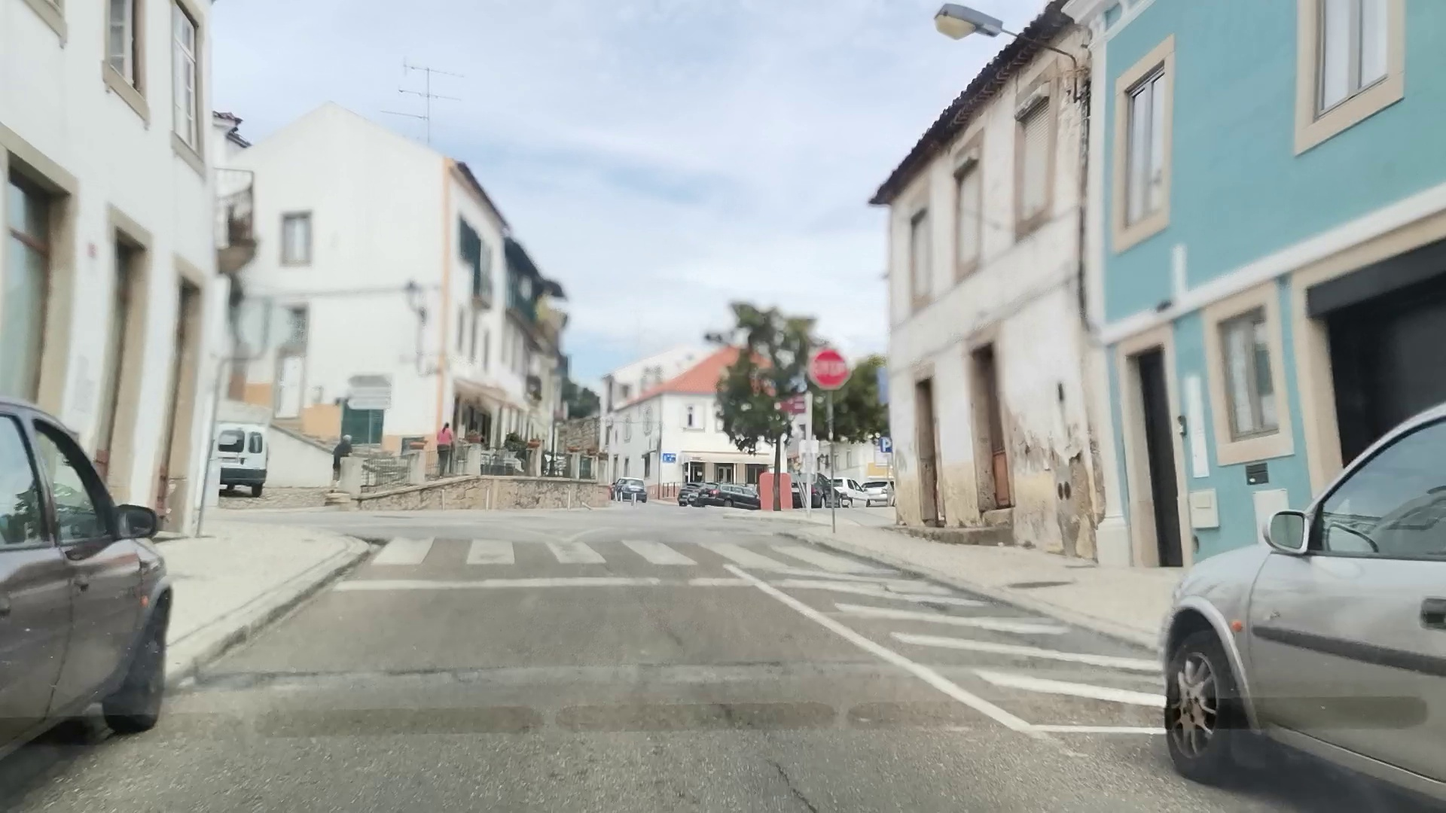Stairs: (368, 537, 874, 568)
